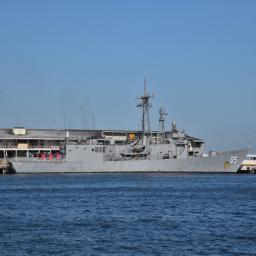Fragata: (6, 71, 252, 176)
